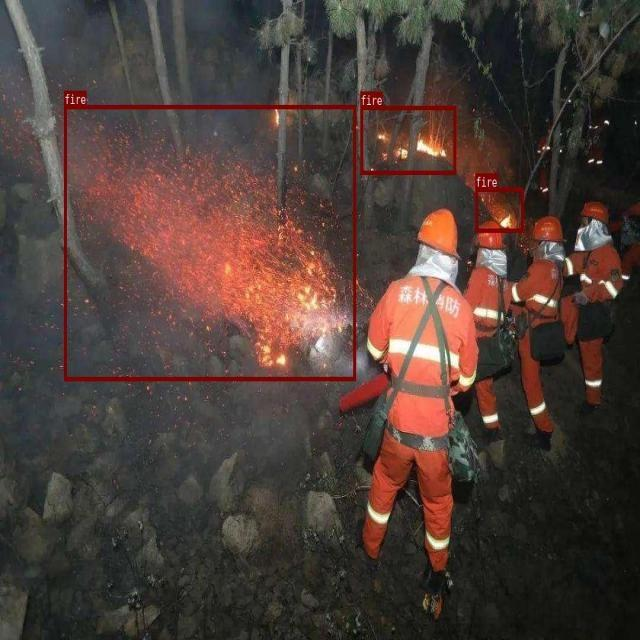fire: (64, 104, 355, 380), (360, 106, 456, 174), (475, 187, 523, 232)
